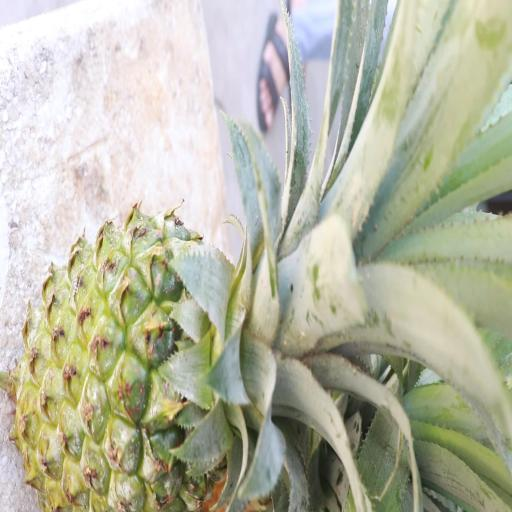------------------------------: (22, 229, 276, 512)
